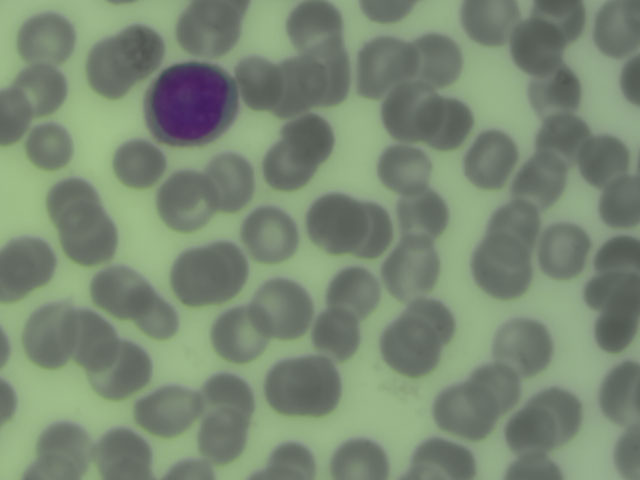RBC: (525, 62, 585, 118), (87, 36, 137, 99), (403, 437, 476, 480), (241, 207, 296, 261), (60, 211, 115, 265), (42, 173, 97, 227), (114, 20, 169, 74), (24, 117, 79, 171), (14, 62, 69, 116), (17, 11, 72, 65), (402, 294, 457, 348), (388, 243, 443, 297), (397, 188, 452, 242), (420, 96, 475, 150), (382, 85, 437, 139), (357, 38, 412, 92), (290, 44, 345, 98), (235, 54, 290, 108), (326, 262, 381, 316), (311, 307, 366, 361), (276, 358, 331, 412), (254, 281, 309, 335), (211, 307, 266, 361), (193, 419, 248, 473), (198, 369, 253, 423), (137, 381, 192, 435), (111, 134, 166, 188), (92, 263, 147, 317), (98, 426, 153, 480), (36, 421, 91, 475), (91, 342, 146, 396), (62, 315, 117, 369), (22, 307, 77, 361), (485, 199, 540, 253), (515, 155, 570, 209), (577, 134, 632, 188), (538, 112, 593, 166), (508, 16, 563, 70), (466, 132, 521, 186), (383, 319, 438, 373), (584, 297, 639, 351), (585, 240, 640, 294), (535, 221, 590, 275), (497, 320, 552, 374), (469, 362, 524, 416), (435, 382, 490, 436), (478, 241, 533, 295), (158, 169, 213, 223), (308, 197, 363, 251), (376, 139, 431, 193), (503, 404, 558, 458), (182, 245, 237, 299), (201, 148, 256, 202), (1, 239, 54, 293), (183, 1, 238, 53), (597, 361, 640, 424), (594, 177, 640, 233), (264, 141, 314, 190), (329, 436, 384, 480), (597, 1, 640, 56), (129, 297, 180, 342), (287, 1, 345, 40), (286, 112, 331, 161), (462, 1, 513, 44), (267, 436, 316, 480), (359, 198, 394, 259), (531, 1, 589, 37), (540, 389, 584, 434), (1, 88, 32, 141), (615, 421, 640, 480), (503, 457, 565, 480), (362, 1, 412, 22)
WBC: (147, 58, 238, 146)
